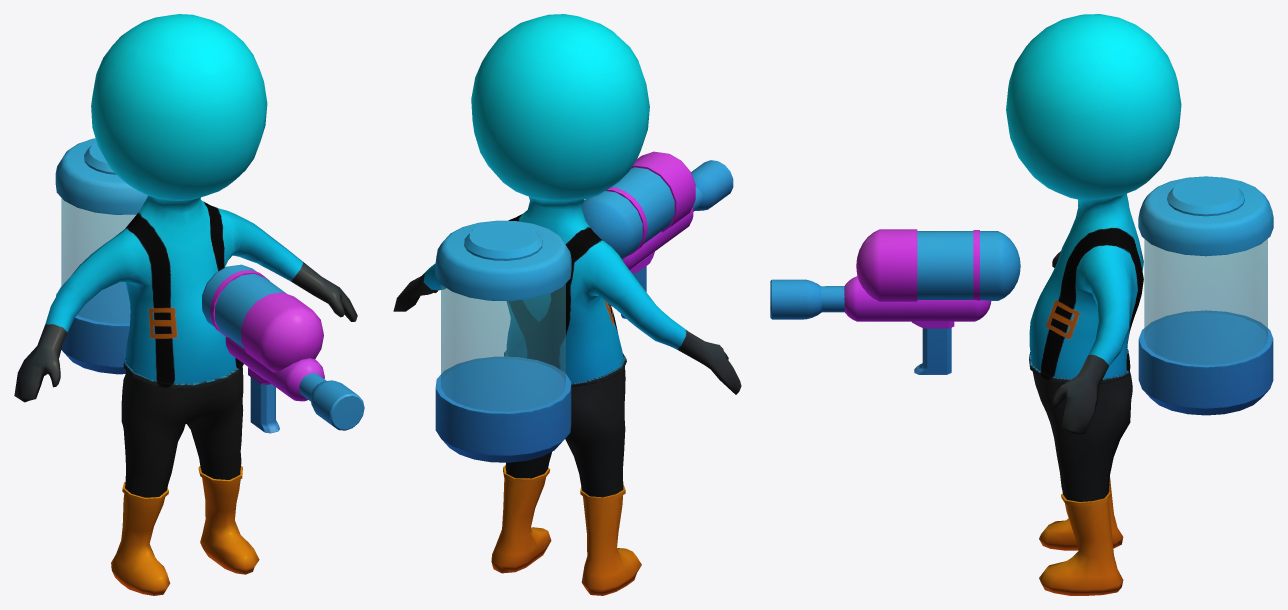
Rendered from Player_02.fbx.
The picture shows the model from 3 angles, left to right: view 1: azimuth 30°, elevation 25°; view 2: azimuth 150°, elevation 25°; view 3: azimuth 270°, elevation 25°; orthographic projection.
Parts seen in each view (by area): view 1: Player_02, Gun_03, Tank_03; view 2: Player_02, Tank_03, Gun_03; view 3: Player_02, Tank_03, Gun_03.
Boxes of the visible parts, bbox=[...] form: Player_02: bbox=[14, 14, 357, 595]; Gun_03: bbox=[202, 264, 364, 433]; Tank_03: bbox=[55, 138, 147, 374]; Player_02: bbox=[393, 14, 741, 595]; Tank_03: bbox=[435, 220, 571, 462]; Gun_03: bbox=[582, 151, 733, 318]; Player_02: bbox=[1006, 14, 1181, 595]; Tank_03: bbox=[1138, 176, 1273, 415]; Gun_03: bbox=[770, 229, 1020, 374].
Bounding box in the file's own units: 359 × 551 × 463.
3 materials, 3 textured.
